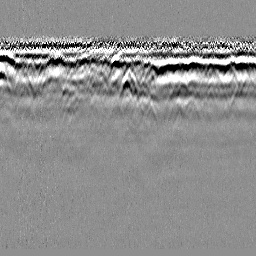cavity: (118, 67, 140, 98)
